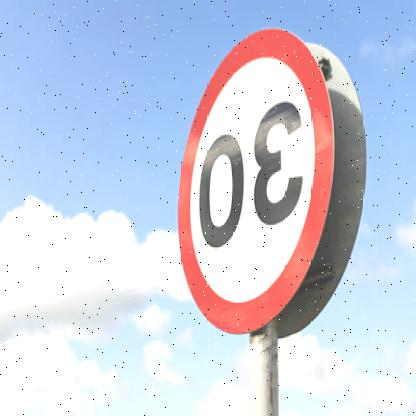speedlimit: (178, 28, 335, 335)
